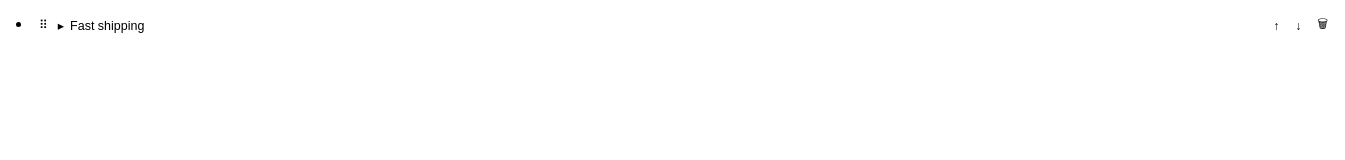
Test case: the disclosure carries the row's label and opens its body
This screenshot has width=1345, height=160.
Expected: the text "row body" is not shown
Click the button "▸ Fast shipping" at point(107, 26), box x1=54 y1=16 x2=1260 y2=35
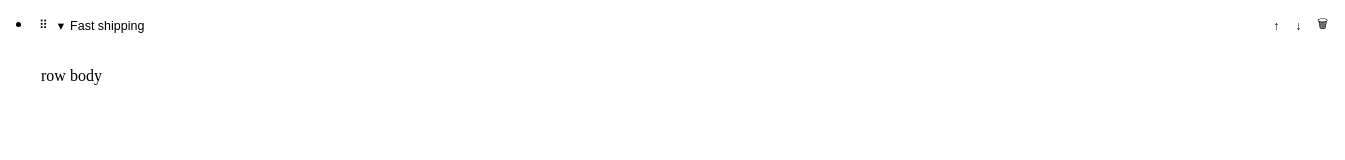
Now the button "▾ Fast shipping" is expanded, box x1=54 y1=16 x2=1260 y2=35
Now the text "row body" is shown, box x1=41 y1=67 x2=102 y2=84
